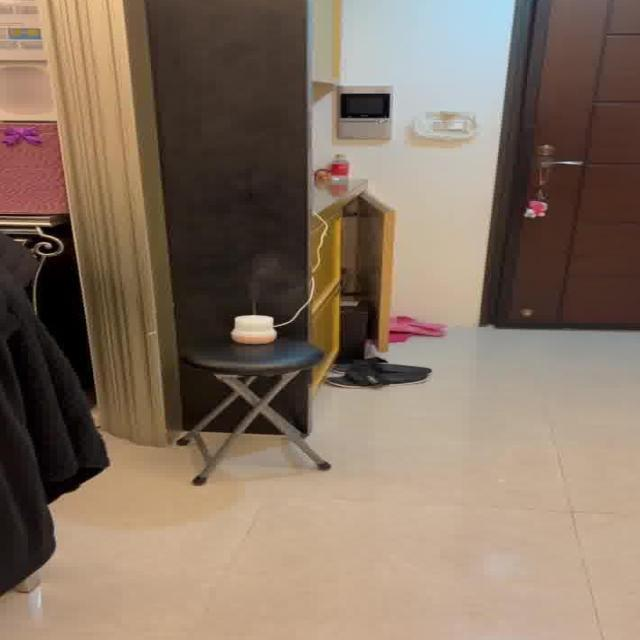fire: (234, 256, 301, 302)
